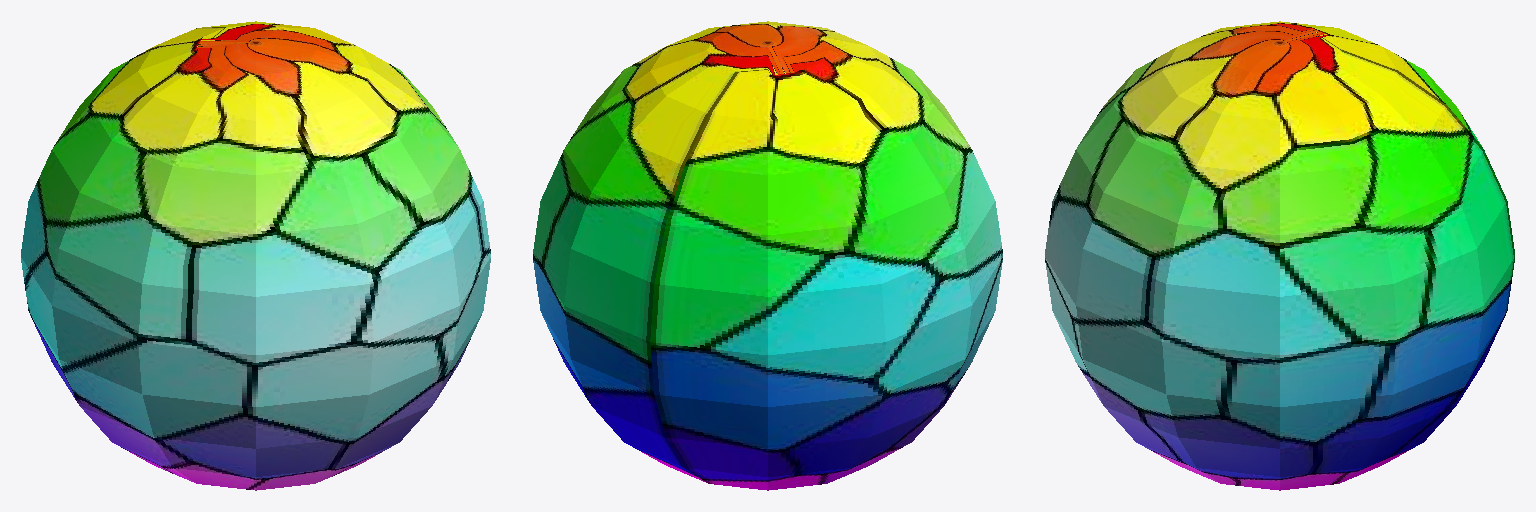
3 views of the same model, side by side, from view 1: azimuth 30°, elevation 25°; view 2: azimuth 150°, elevation 25°; view 3: azimuth 270°, elevation 25° (orthographic).
Visible parts, largest first — view 1: Sphere; view 2: Sphere; view 3: Sphere.
Boxes of the visible parts, <box> form: Sphere: <box>21,21,490,490</box>; Sphere: <box>533,21,1002,490</box>; Sphere: <box>1045,21,1514,490</box>.
Size of the model in its own units: 1 by 1 by 1.
Materials: 1 (1 with a texture image).